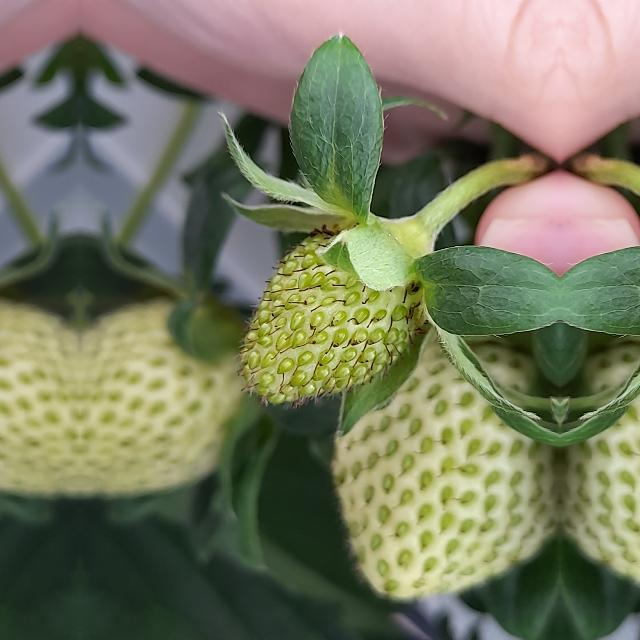Health_25: (333, 299, 559, 597), (234, 225, 423, 408), (561, 299, 640, 597)
